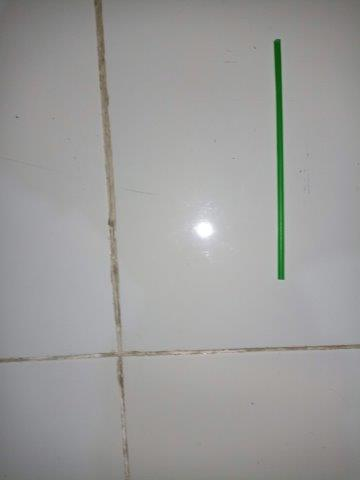sedotan: (275, 40, 285, 278)
